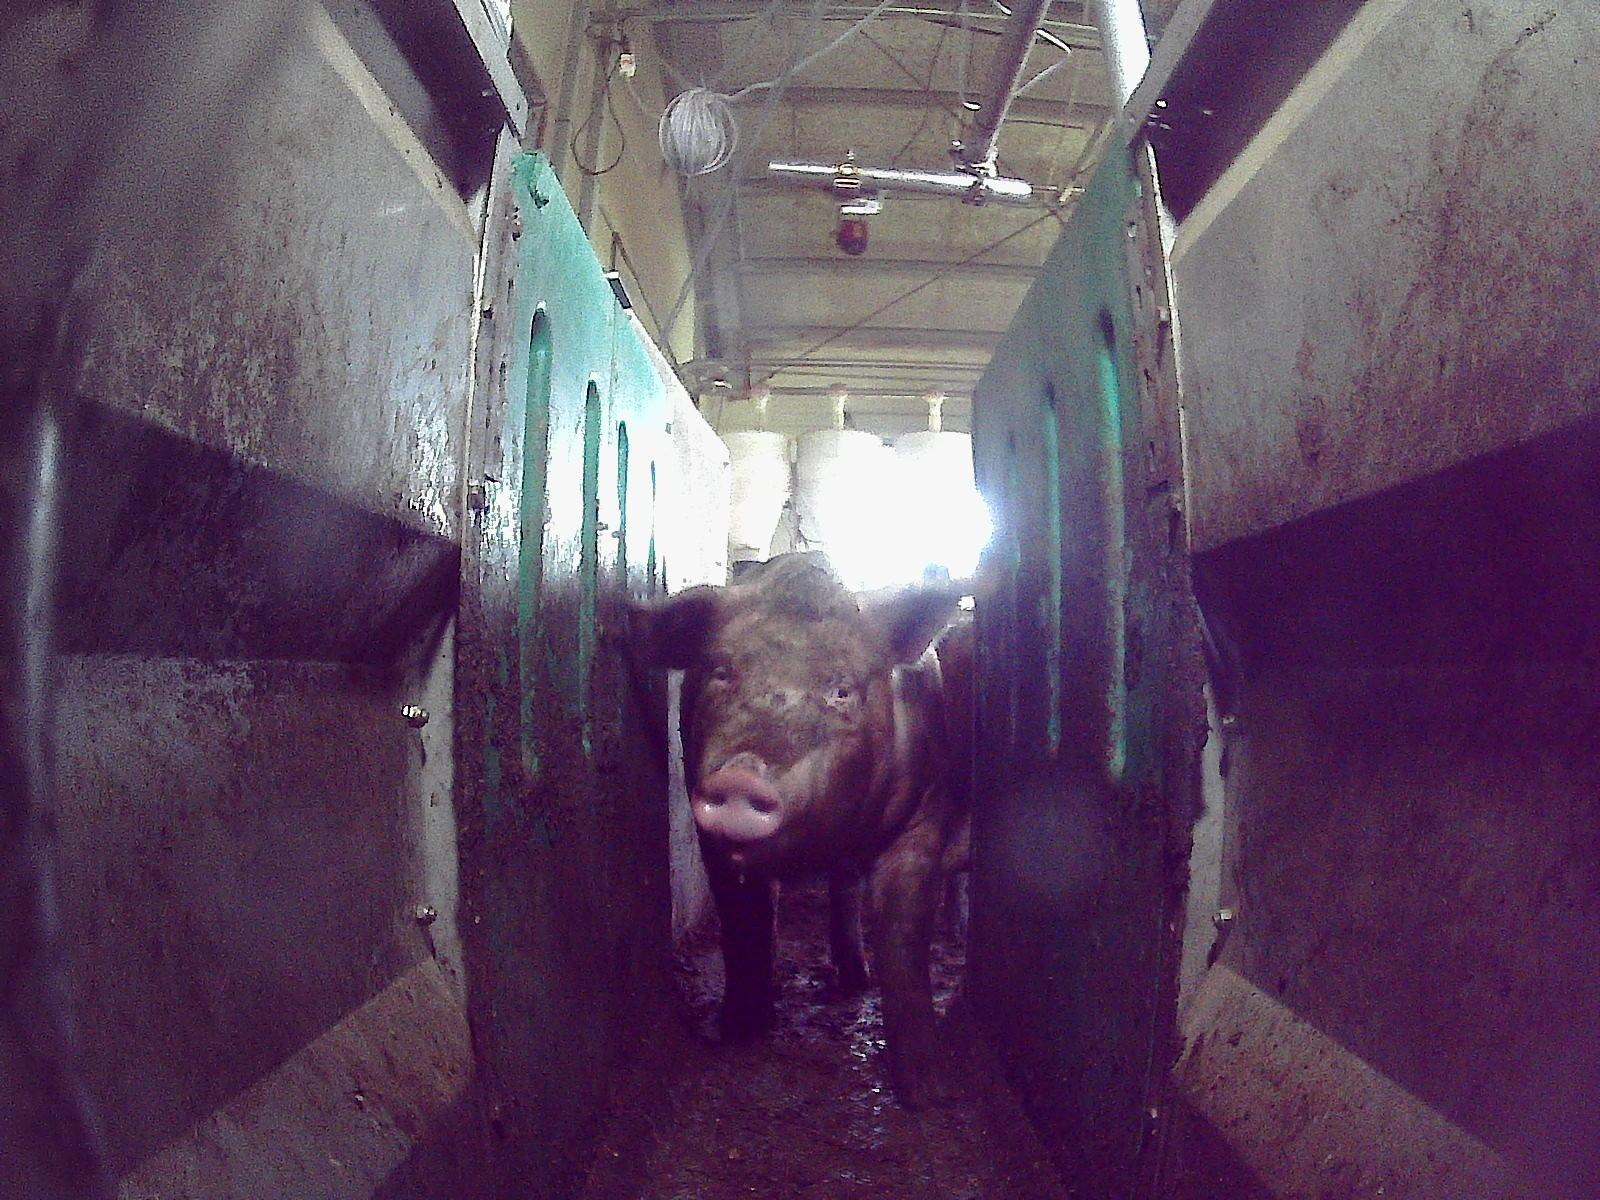Face: (685, 606, 886, 846)
